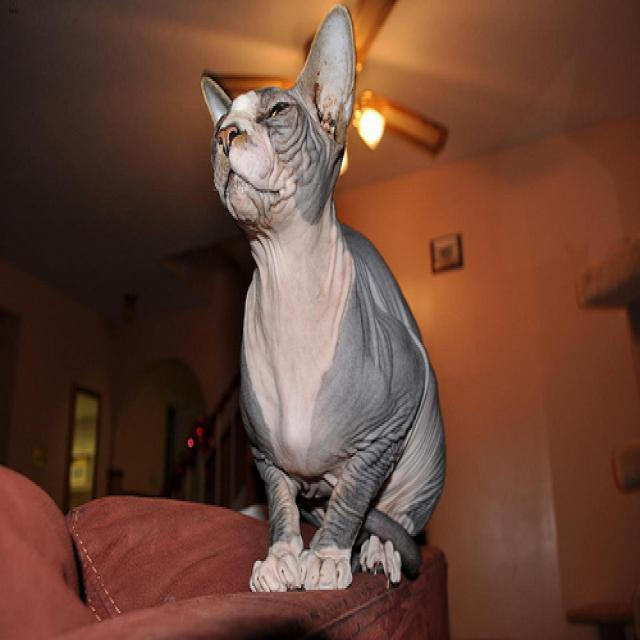Sphynx: (194, 0, 359, 231)
